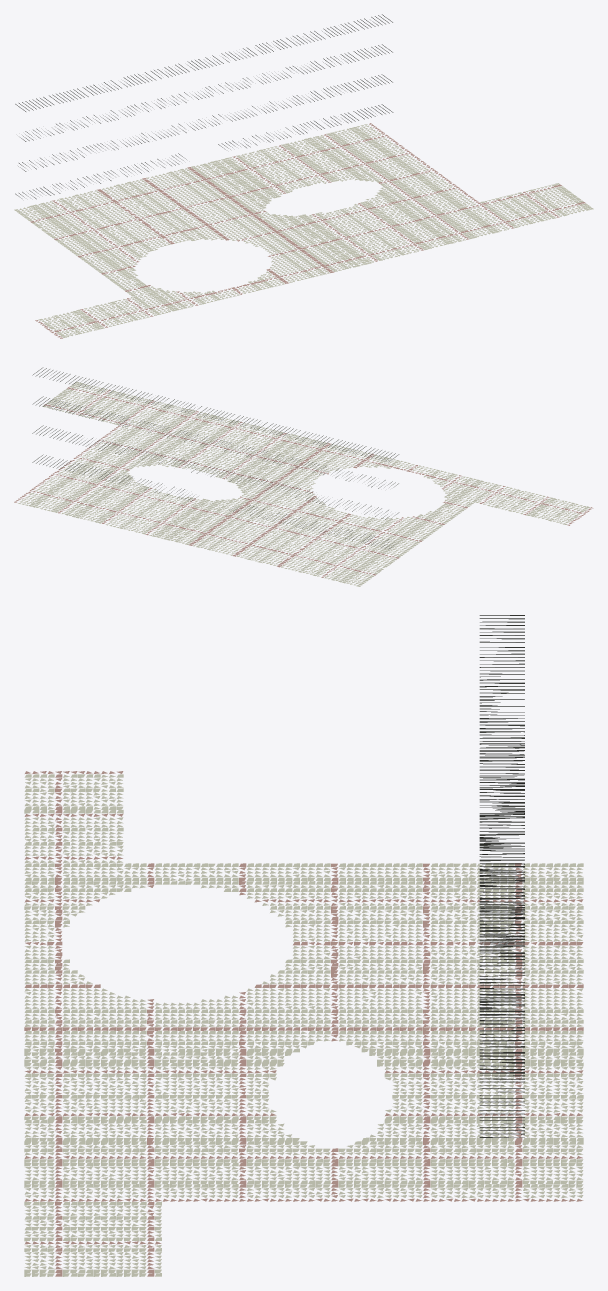
The model's file is teaching3-surface-medium.glb.
3 views of the same model, one above another, from view 1: azimuth 30°, elevation 25°; view 2: azimuth 150°, elevation 25°; view 3: azimuth 270°, elevation 25° (orthographic). The views are drawn at different scales.
Parts seen in each view (by area): view 1: grid paving.001, grid paving, gallery ceiling grid; view 2: grid paving.001, grid paving, gallery ceiling grid; view 3: grid paving.001, grid paving, gallery ceiling grid.
Part boxes in pixels (box(x1,y1,x2,y2)): grid paving.001: box(14, 124, 593, 337); grid paving: box(30, 123, 585, 338); gallery ceiling grid: box(15, 14, 393, 199); grid paving.001: box(18, 382, 589, 586); grid paving: box(14, 387, 593, 577); gallery ceiling grid: box(32, 367, 399, 549); grid paving.001: box(24, 774, 583, 1276); grid paving: box(24, 771, 583, 1276); gallery ceiling grid: box(479, 615, 524, 1137).
Size of the model in its own units: 62.45 by 13.55 by 29.18.
